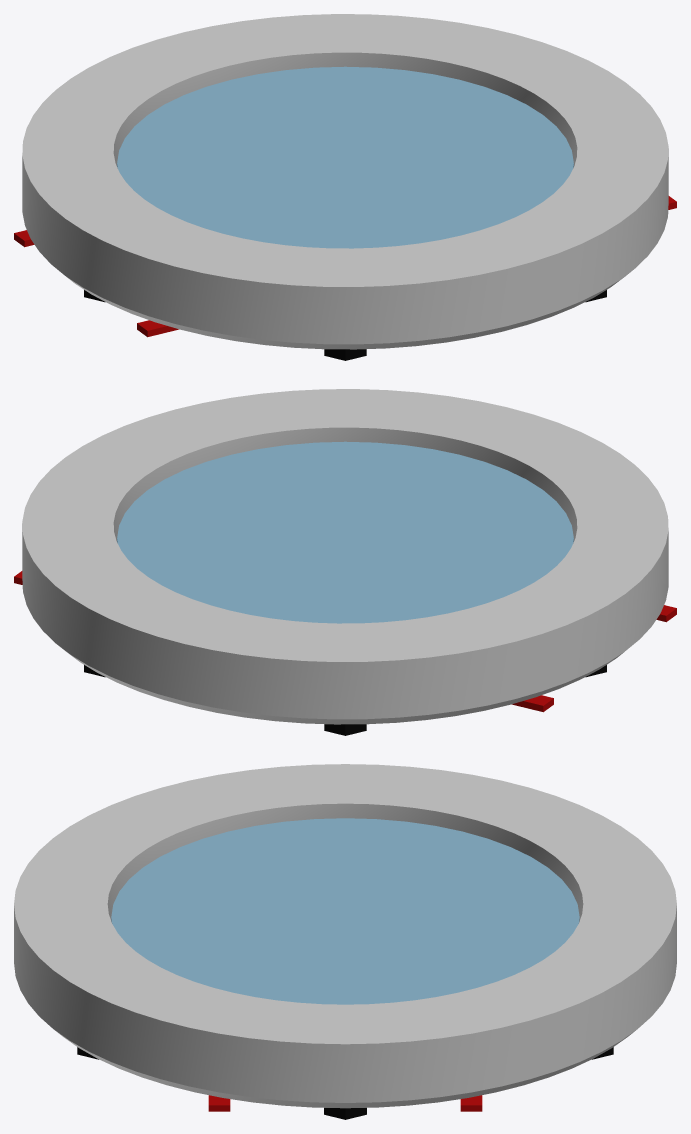
The model's file is sight_glass_low_v2.obj.
3 renders of one model, top to bottom at view 1: azimuth 30°, elevation 25°; view 2: azimuth 150°, elevation 25°; view 3: azimuth 270°, elevation 25°, orthographic. The views are drawn at different scales.
Visible parts, largest first — view 1: sight_glass_low_v2; view 2: sight_glass_low_v2; view 3: sight_glass_low_v2.
Part boxes in pixels (<box>): sight_glass_low_v2: <box>14,14,676,360</box>; sight_glass_low_v2: <box>14,389,676,735</box>; sight_glass_low_v2: <box>14,764,676,1119</box>.
Bounding box in the file's own units: 0.184 × 0.026 × 0.184.
